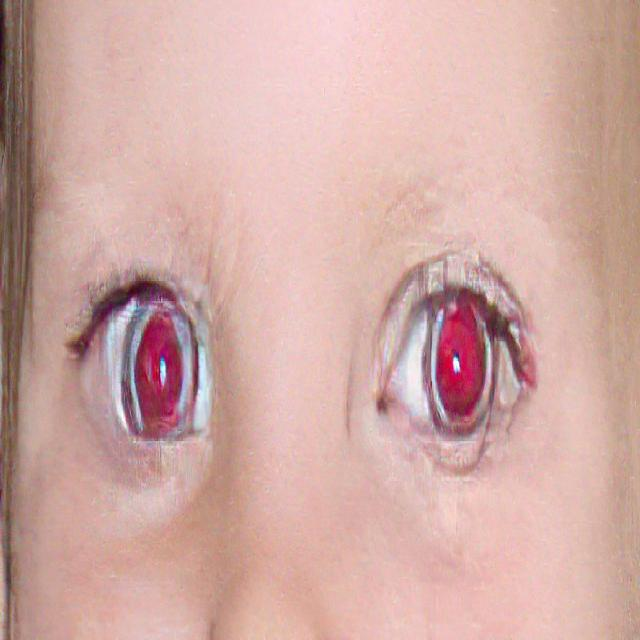reflexo-normal: (377, 252, 525, 462), (103, 245, 216, 476)
